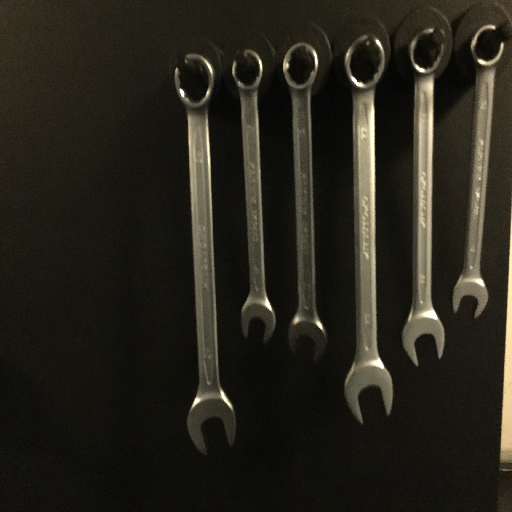bottom: (183, 395, 240, 460), (340, 361, 395, 426), (395, 311, 449, 368), (284, 313, 327, 365), (233, 297, 278, 345), (447, 273, 490, 320)
top: (169, 51, 218, 109), (342, 31, 387, 90), (407, 24, 448, 76), (280, 40, 320, 91), (467, 23, 507, 68), (227, 47, 266, 93)
